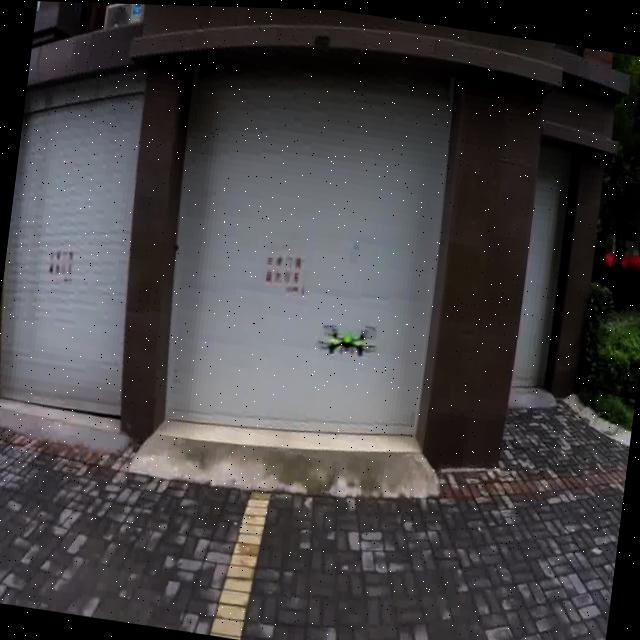drone: (310, 307, 380, 366)
